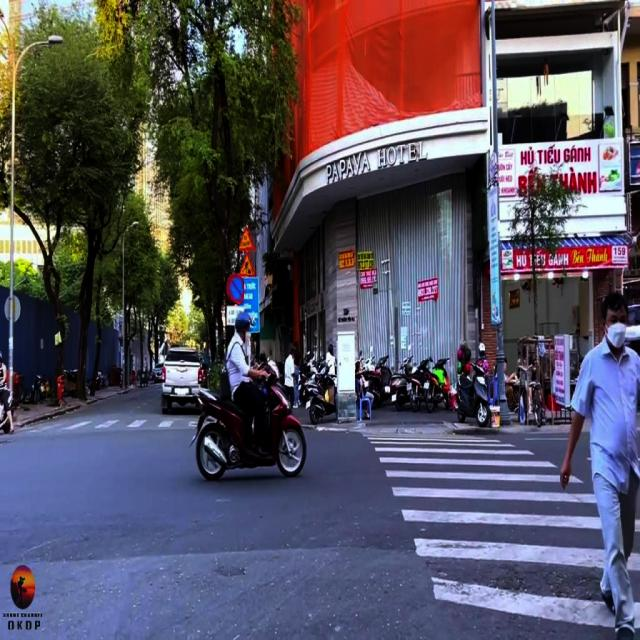cam_do_xe: (227, 274, 244, 304)
cong_truong: (240, 254, 254, 275)
di_cham: (239, 226, 255, 250)
